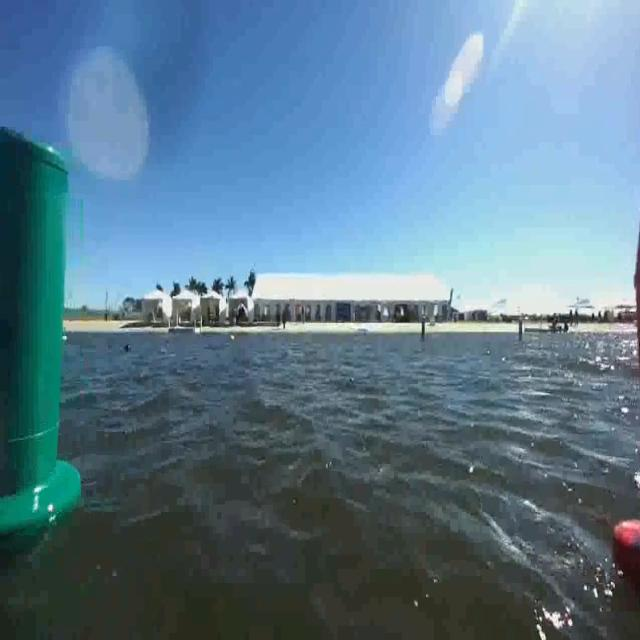green-column-buoy: (0, 125, 93, 545)
